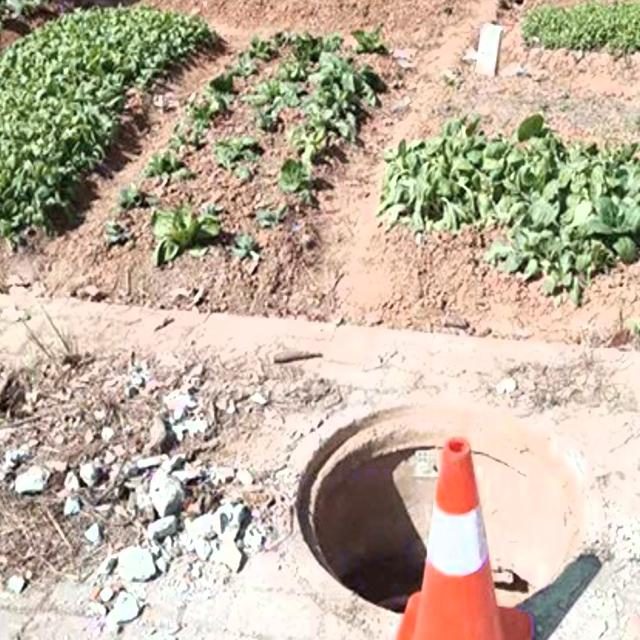lose: (281, 385, 605, 627)
